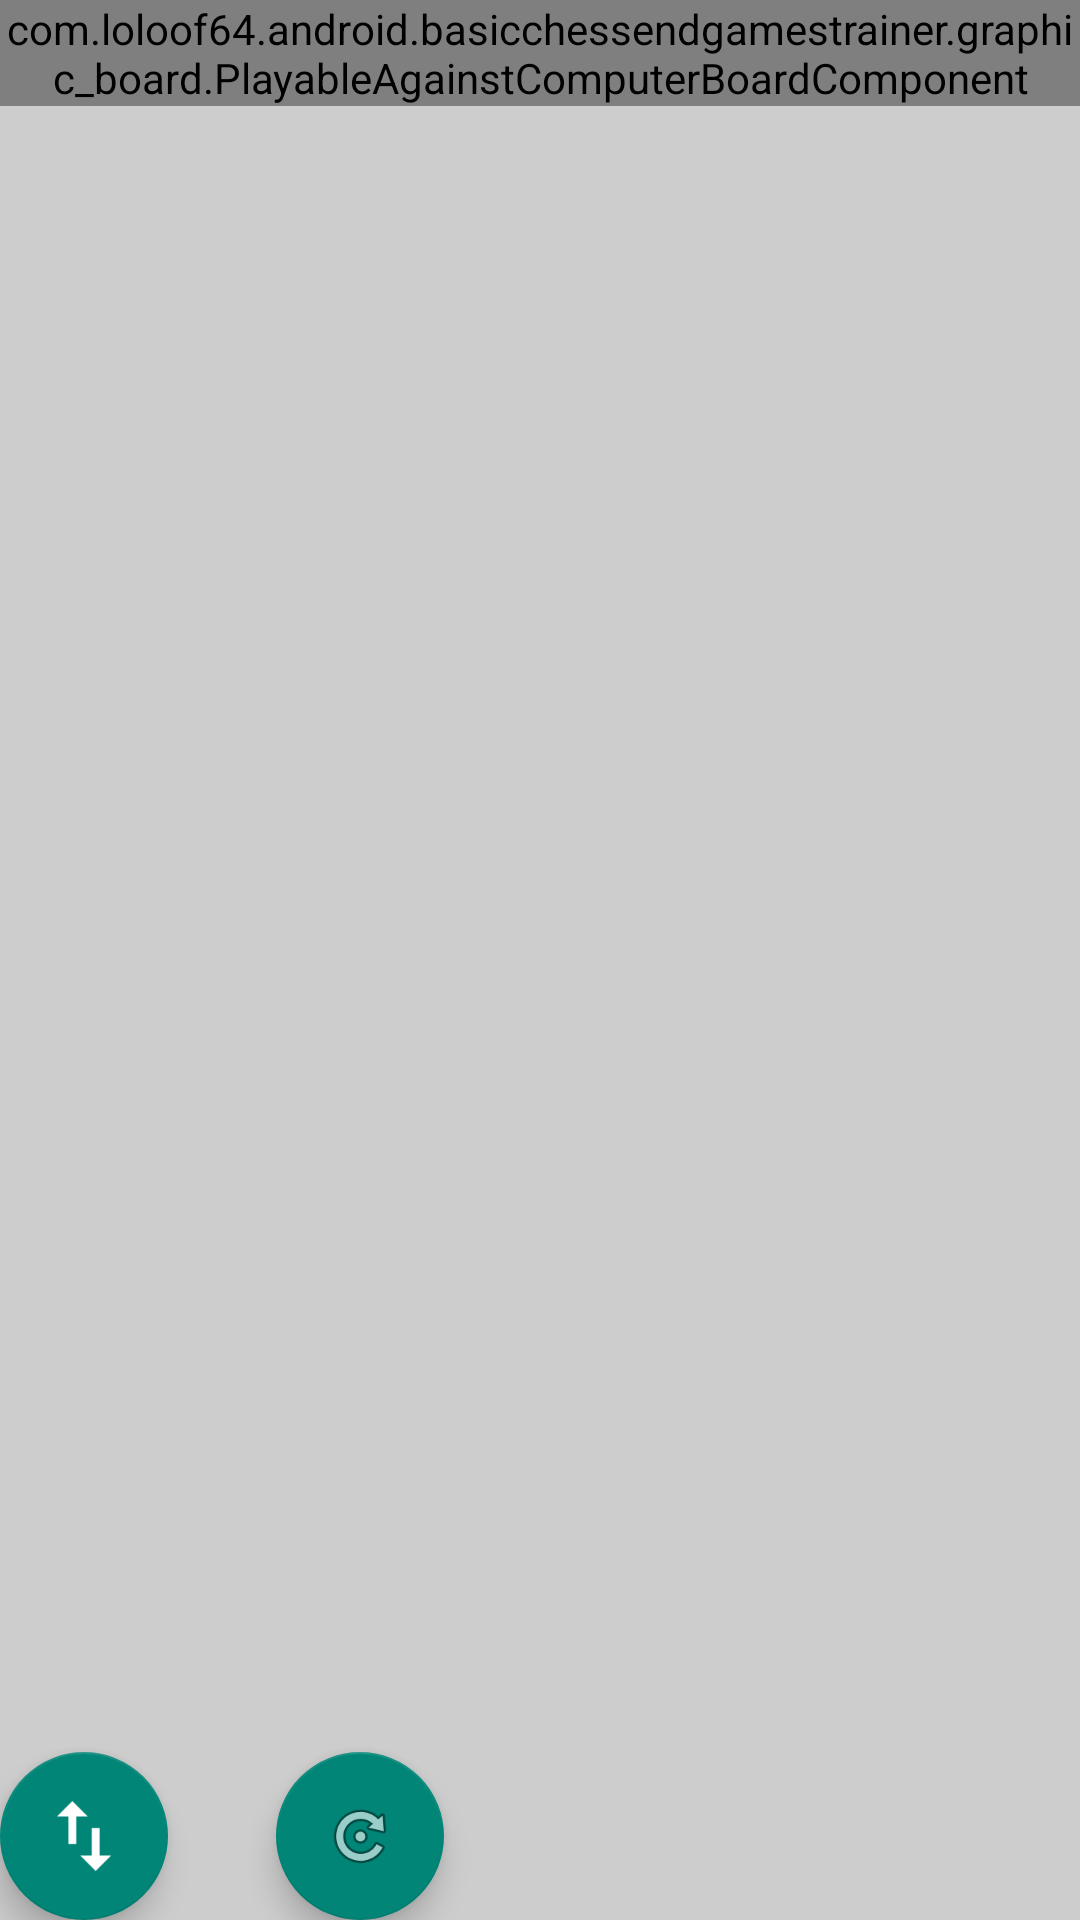

Named icons in this screenshot (1080 x 1920) and their centers, (x,y):
rotate: (360,1836)
swap vert: (84,1836)
